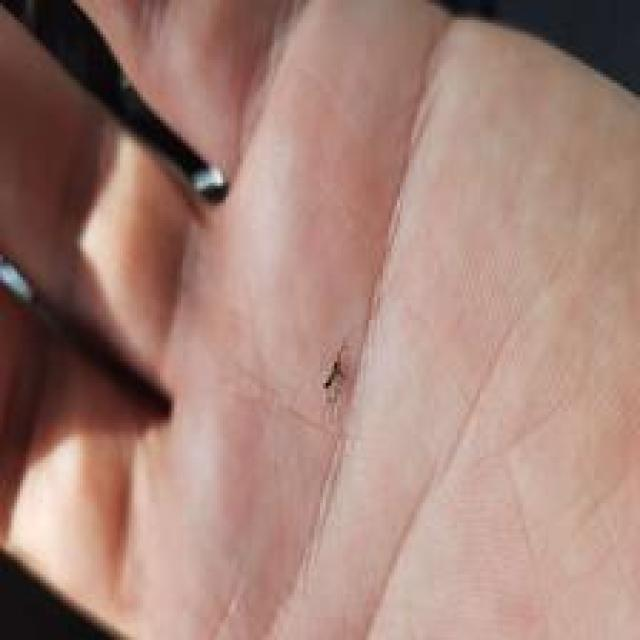Aedes albopictus: (0, 0, 231, 205)
